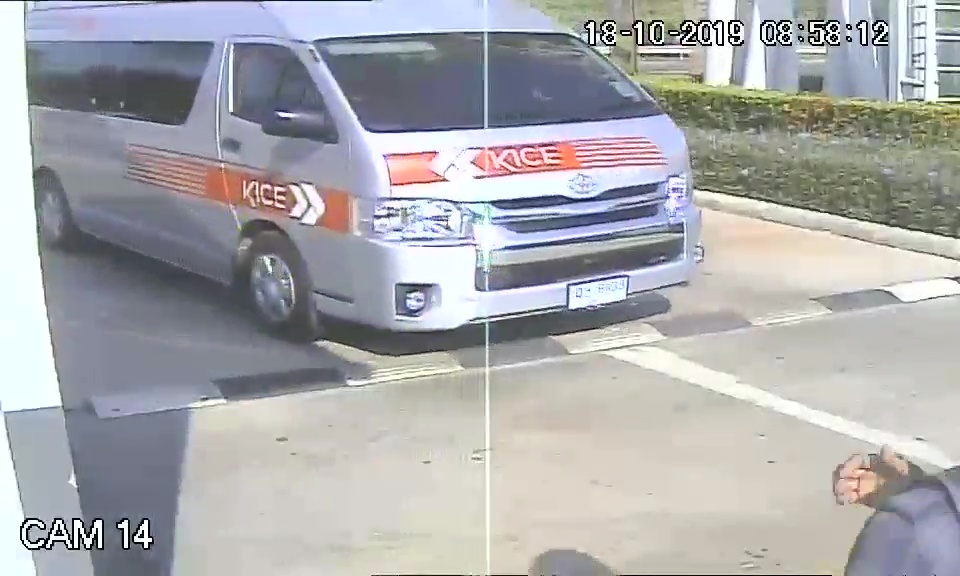van: (40, 7, 706, 340)
